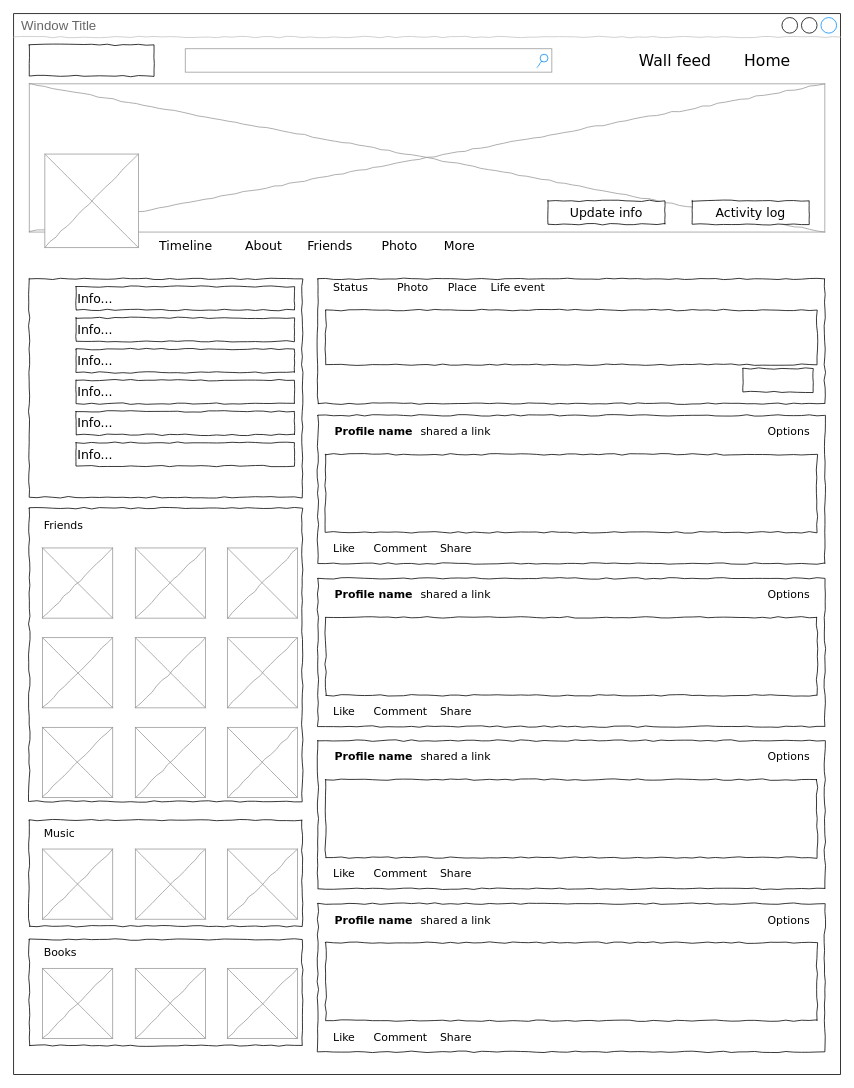
Image size: 854x1088. Some labels were removed from this diagram. Each missing label, with the centre of its shape:
LOGO: (x=91, y=60)
Post: (x=777, y=380)
Search: (x=368, y=60)
